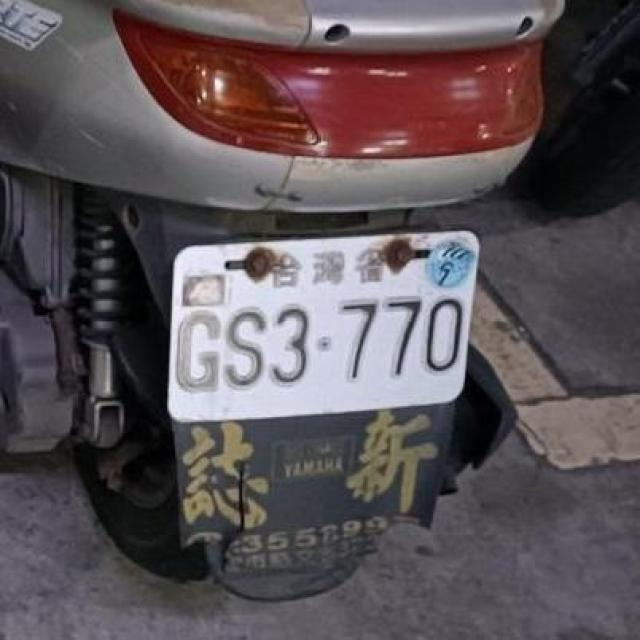W: (151, 217, 487, 442)
